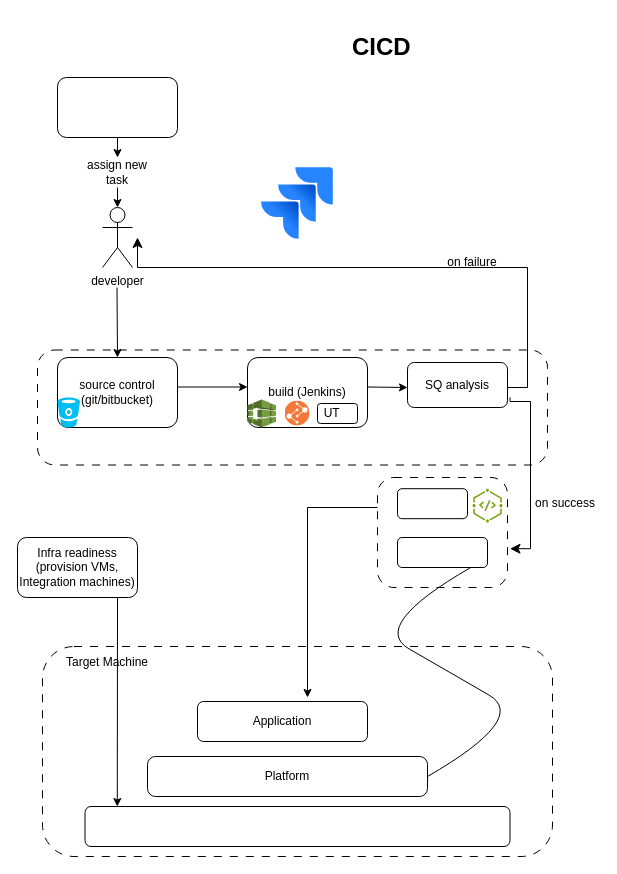
The diagram is 617 pixels wide and 874 high, and some of its shapes have lost their labels. The centre of each missing label's shape, as x and y in pixels:
Binary repository: [432,503]
Infrastructure: [297,826]
Issue Manager: [117,107]
Shared Folder: [442,552]
